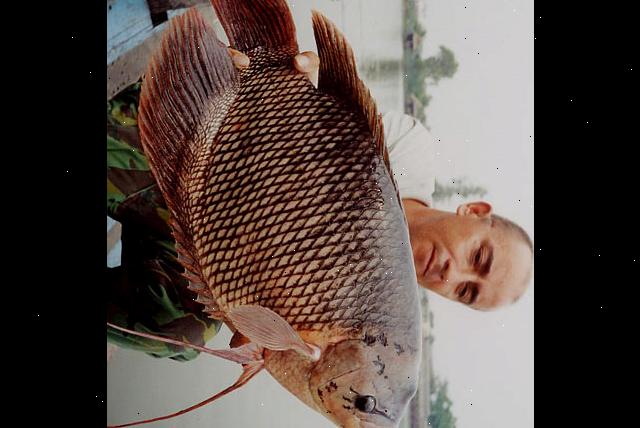Mulut: (336, 401, 417, 428)
Sirip Anal: (122, 0, 254, 322)
Sirip Dada: (206, 289, 326, 365)
Sirip Ekor: (193, 0, 308, 84)
Sirip Perut: (106, 320, 279, 428)
Sirip Punggung: (303, 0, 417, 237)
